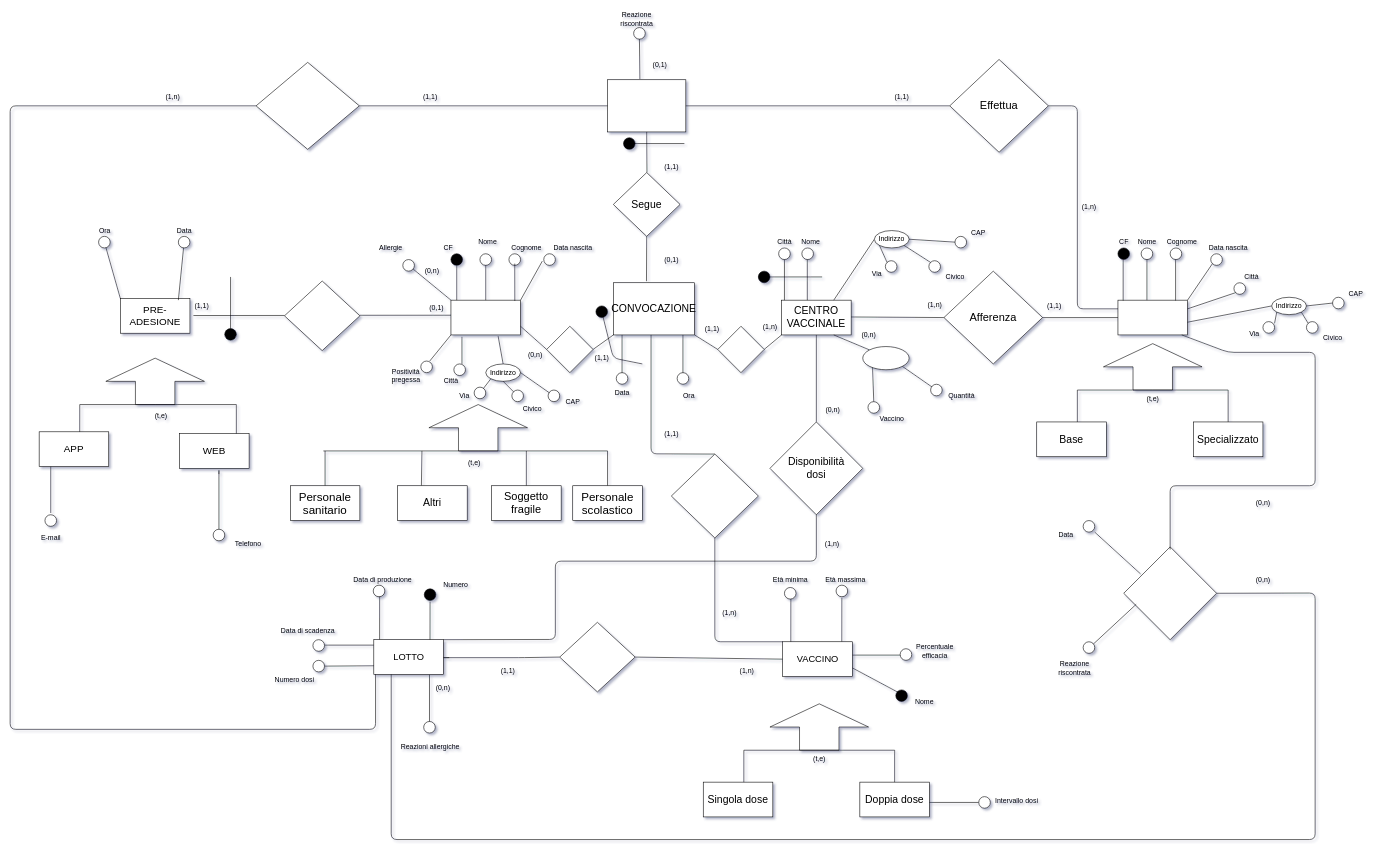
The diagram is 1381 pixels wide and 854 high, and some of its shapes have lost their labels. Here are the shapes that lost their labels. From the top down, the centre of each, then its label:
point 307,105: Somministrazione
point 646,105: VACCINAZIONE
point 322,315: Registrazione
point 485,317: VACCINANDO
point 1152,317: MEDICO
point 569,349: Ottiene
point 740,349: Convoca
point 885,358: Dosi
point 714,496: Utilizza
point 1170,593: Report
point 597,657: Contiene
